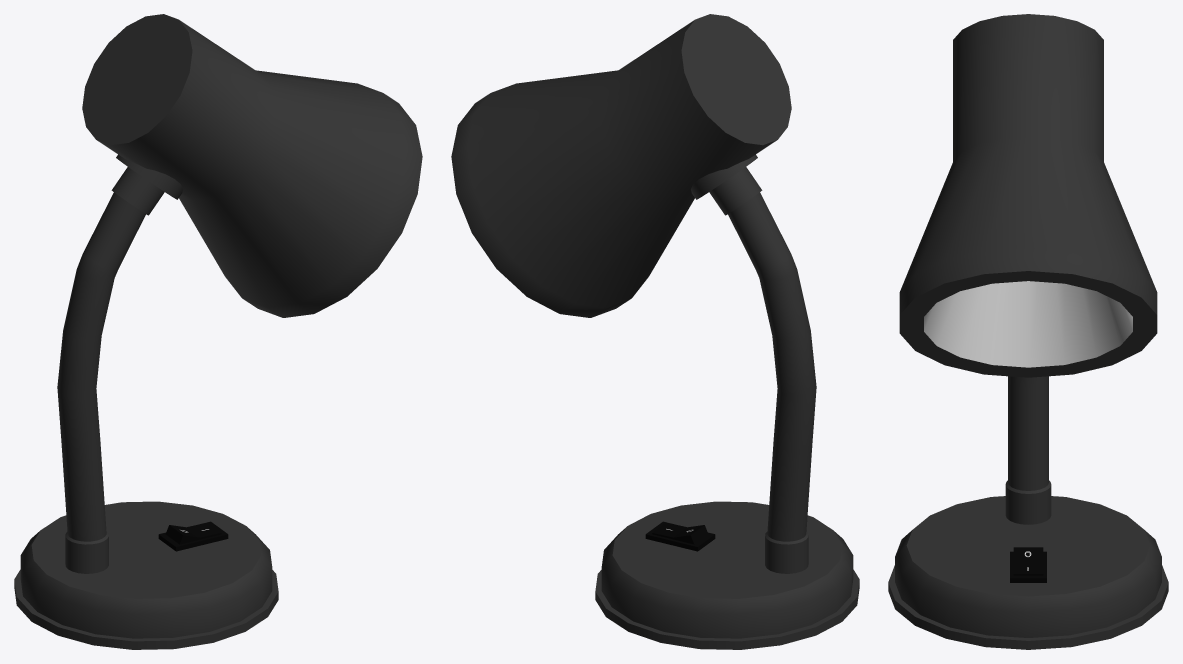
The model's file is Lamp.fbx.
The picture shows the model from 3 angles, left to right: view 1: azimuth 30°, elevation 25°; view 2: azimuth 150°, elevation 25°; view 3: azimuth 270°, elevation 25°; orthographic projection. The views are drawn at different scales.
Visible parts, largest first — view 1: pCylinder4; view 2: pCylinder4; view 3: pCylinder4.
Boxes of the visible parts, x1,y1,x2,y2 form: pCylinder4: (14,14,422,649); pCylinder4: (451,14,859,649); pCylinder4: (888,14,1168,649).
Bounding box in the file's own units: 12.06 × 17.77 × 7.61.
Materials: 3 (1 with a texture image).
